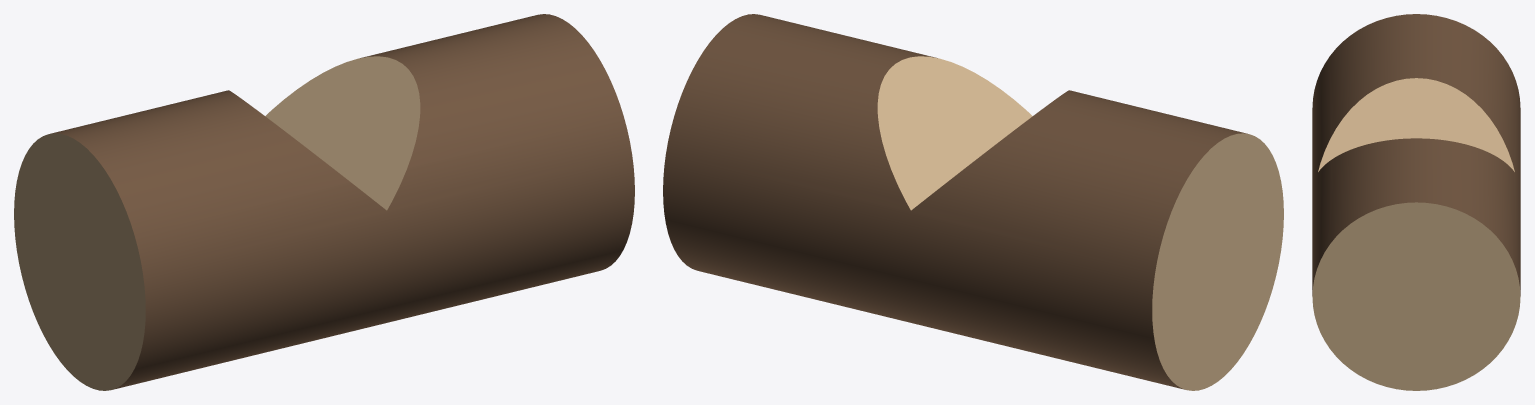
Rendered from SM_RawLog_75_Notch_V.fbx.
The picture shows the model from 3 angles, left to right: view 1: azimuth 30°, elevation 25°; view 2: azimuth 150°, elevation 25°; view 3: azimuth 270°, elevation 25°; orthographic projection. The views are drawn at different scales.
Parts seen in each view (by area): view 1: RawLog_75_Notch_V; view 2: RawLog_75_Notch_V; view 3: RawLog_75_Notch_V.
Boxes of the visible parts, x1,y1,x2,y2 form: RawLog_75_Notch_V: (14,14,634,390); RawLog_75_Notch_V: (663,14,1283,390); RawLog_75_Notch_V: (1312,14,1520,390).
Size of what is drawn, in the model's own units: 0.75 by 0.35 by 0.35.
